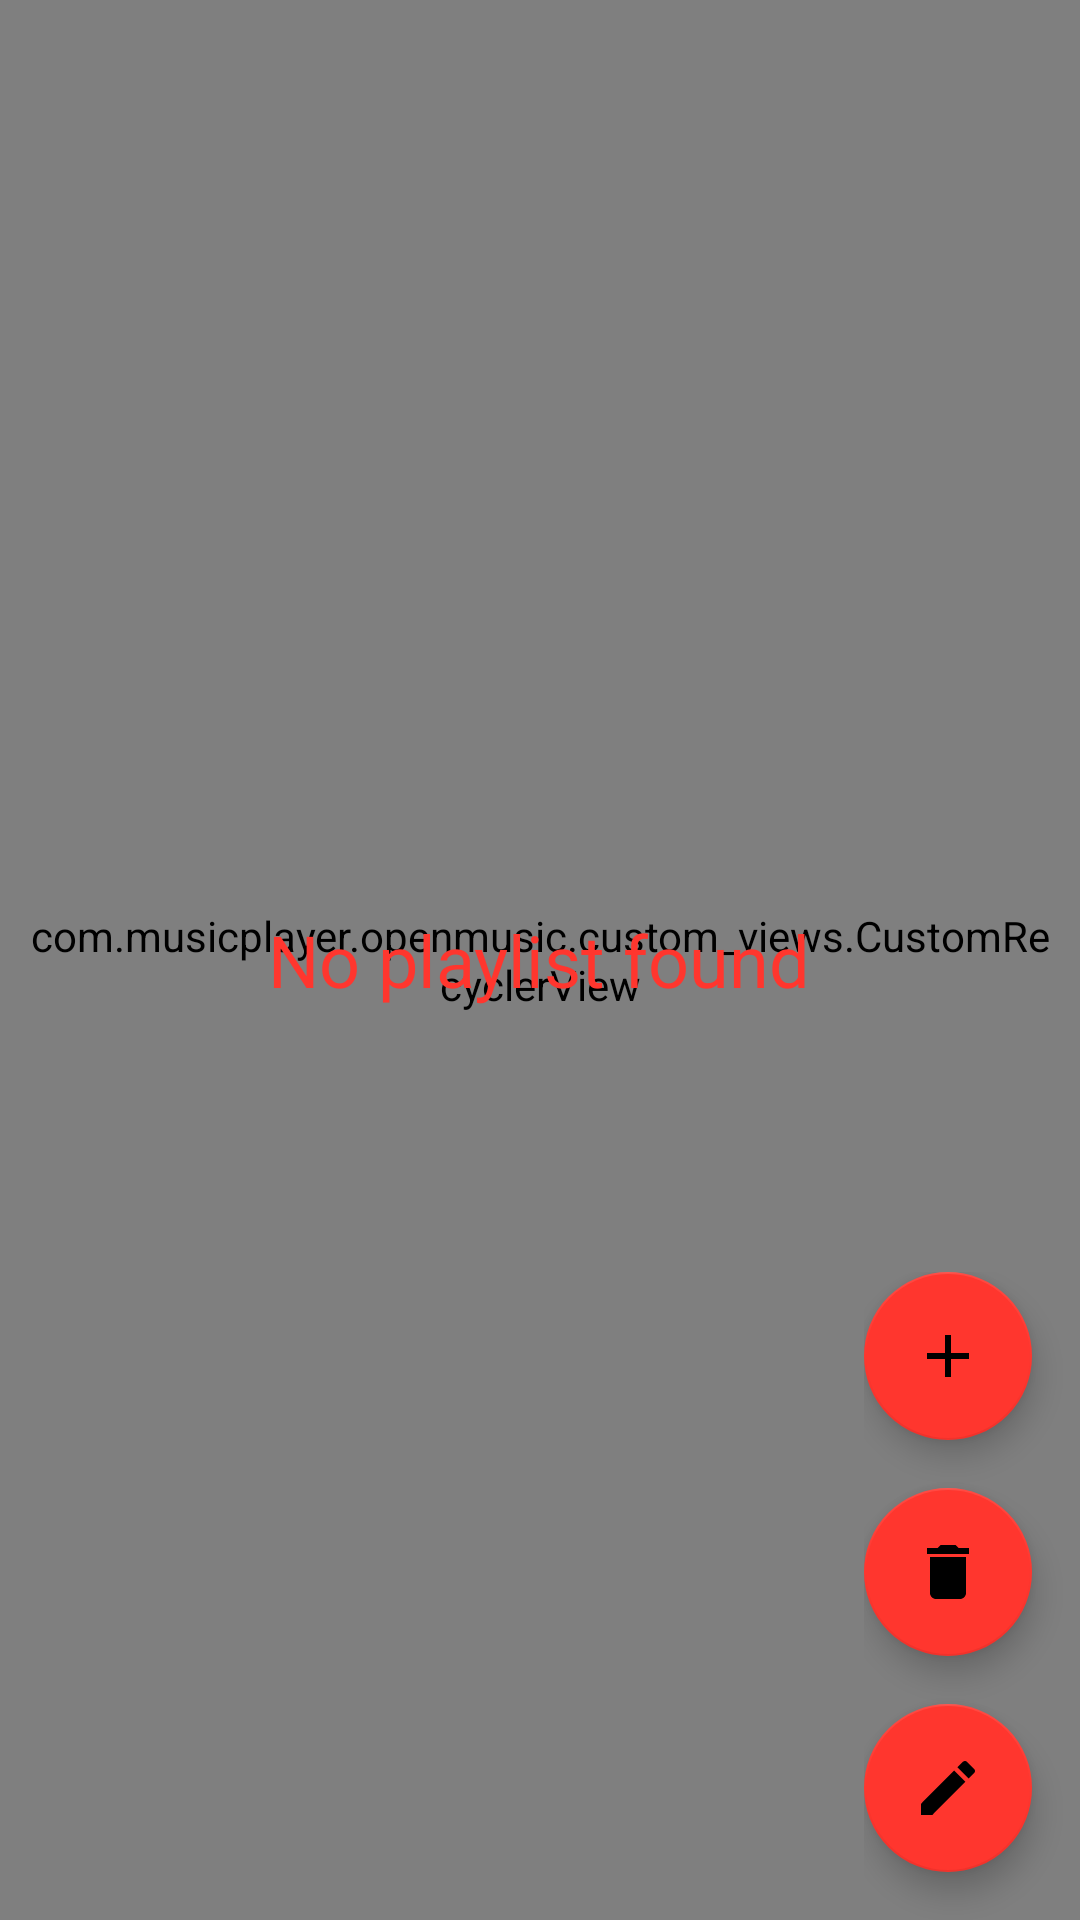

Where to tap for icons on this 1080w x 1920h app screen, as point (x, y):
add sign: point (948, 1356)
delete: point (948, 1572)
edit pencil: point (948, 1788)
